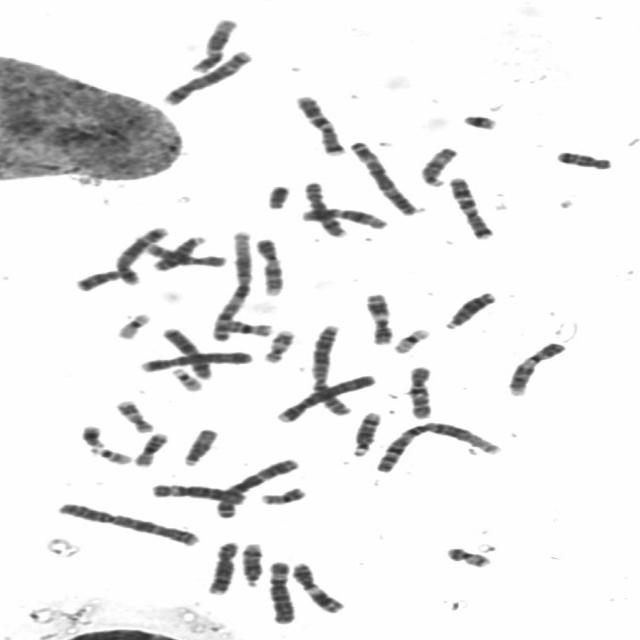A1: (369, 416, 507, 474), (205, 225, 257, 341)
A2: (50, 497, 203, 547), (305, 319, 356, 417)
A3: (343, 136, 422, 216), (210, 454, 304, 520)
B4: (272, 369, 379, 424), (134, 346, 256, 374)
B5: (157, 46, 256, 106), (109, 222, 171, 286)
C10: (138, 238, 230, 268), (402, 360, 439, 420)
C11: (286, 557, 349, 615), (360, 288, 397, 346)
C12: (185, 12, 241, 74), (296, 203, 392, 230)
C6: (146, 479, 250, 504), (263, 556, 300, 626)
C7: (289, 90, 349, 156), (443, 172, 498, 240)
C8: (297, 177, 350, 238), (201, 535, 243, 596)
C9: (503, 337, 570, 397), (250, 234, 289, 297)
D13: (439, 286, 499, 331), (148, 231, 210, 272)
D14: (346, 407, 385, 458), (235, 538, 267, 588)
D15: (415, 142, 462, 188), (177, 423, 221, 468)
E16: (128, 428, 172, 468), (219, 315, 276, 337)
E17: (110, 395, 157, 434), (258, 325, 297, 364)
E18: (70, 264, 126, 293), (551, 146, 617, 170)
F19: (110, 308, 155, 340), (387, 324, 434, 354)
F20: (441, 541, 495, 569), (255, 482, 309, 505)
G21: (456, 108, 501, 131), (75, 420, 109, 449)
G22: (166, 363, 207, 392), (84, 443, 135, 465)
X: (156, 322, 215, 381)
Y: (261, 180, 293, 210)
